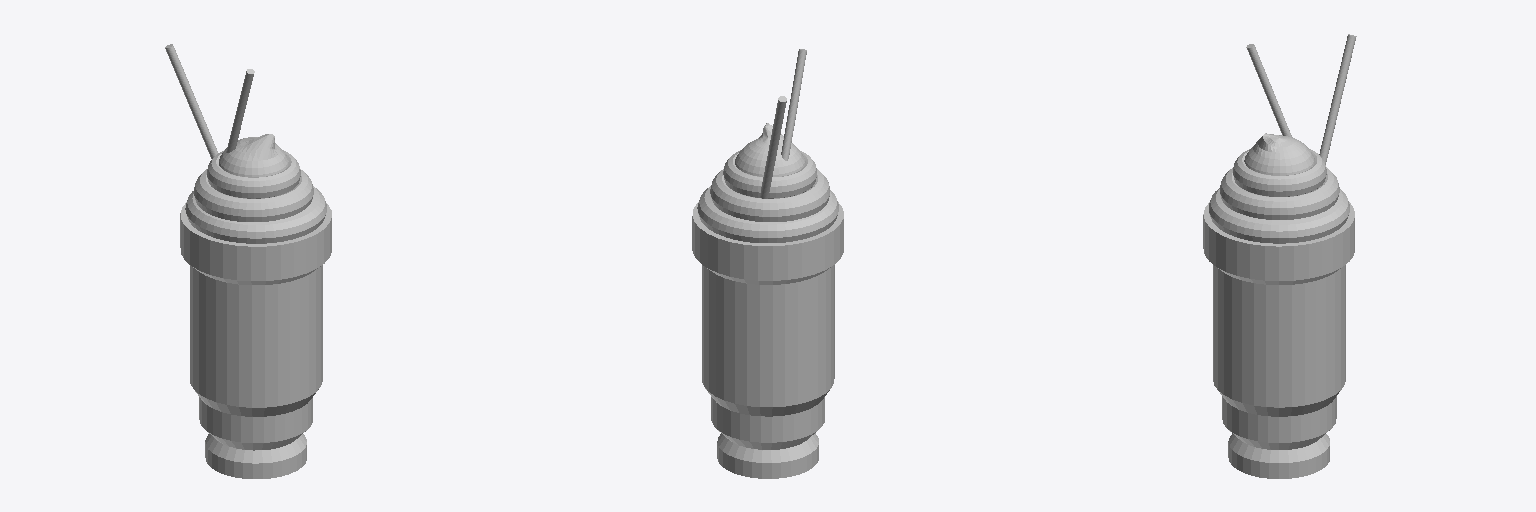
File: drink.obj
The picture shows the model from 3 angles: view 1: azimuth 30°, elevation 25°; view 2: azimuth 150°, elevation 25°; view 3: azimuth 270°, elevation 25°; orthographic projection.
Visible parts, largest first — view 1: CREAM.004_Torus.000_Torus.007; view 2: CREAM.004_Torus.000_Torus.007; view 3: CREAM.004_Torus.000_Torus.007.
Boxes of the visible parts, <box> form: CREAM.004_Torus.000_Torus.007: <box>165,44,331,478</box>; CREAM.004_Torus.000_Torus.007: <box>692,49,843,478</box>; CREAM.004_Torus.000_Torus.007: <box>1203,34,1356,478</box>.
Bounding box in the file's own units: 0.3906 × 1.14 × 0.3935.